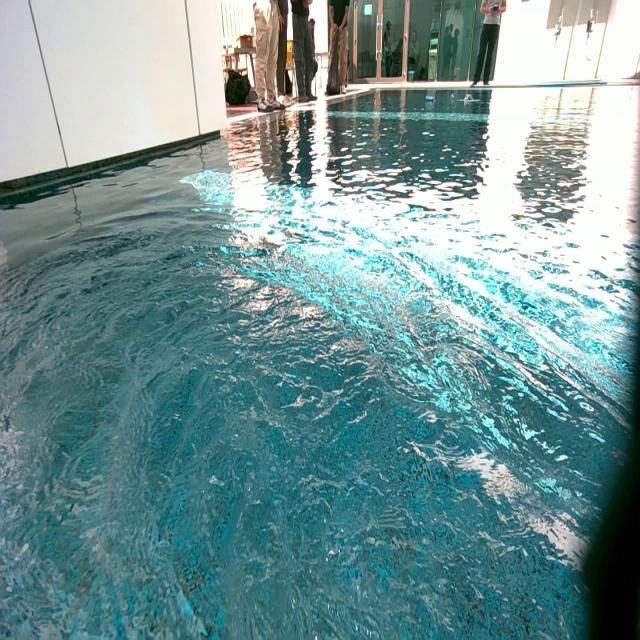Cans: (422, 131, 434, 140), (463, 95, 472, 104), (425, 96, 434, 104)
